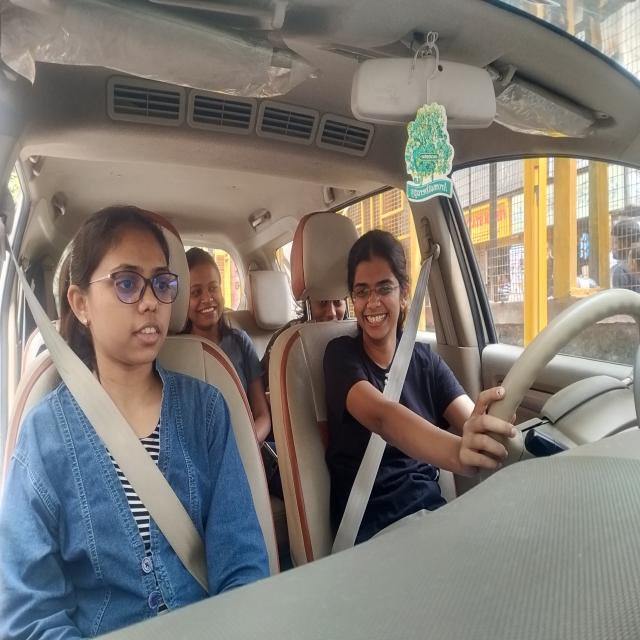LeftRight: (344, 232, 411, 350)
person: (61, 215, 179, 368), (187, 247, 230, 330), (309, 298, 348, 324)
